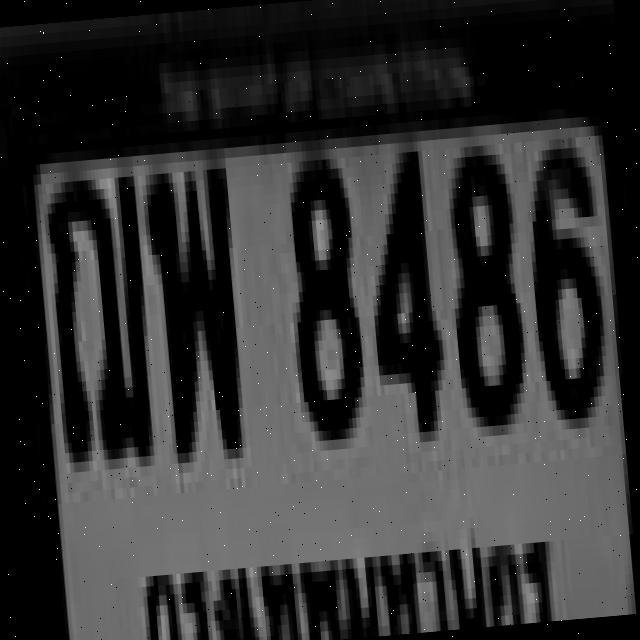21ChorChoe: (38, 161, 155, 458)
39PhorPan: (140, 153, 246, 449)
4: (354, 136, 442, 430)
6: (517, 131, 607, 416)
8: (436, 134, 526, 418), (278, 148, 364, 432)
